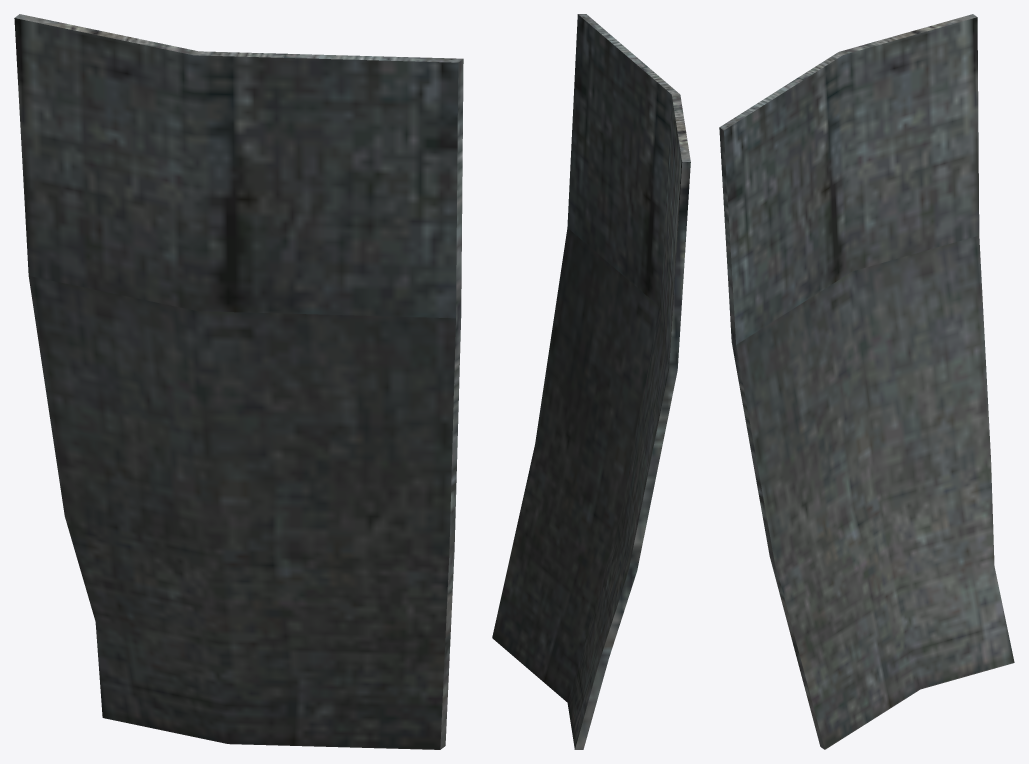
The model's file is flower_barrel_dead_p2.glb.
3 renders of one model, left to right at view 1: azimuth 30°, elevation 25°; view 2: azimuth 150°, elevation 25°; view 3: azimuth 270°, elevation 25°, orthographic. The views are drawn at different scales.
Parts seen in each view (by area): view 1: flower_barrel_dead_p2; view 2: flower_barrel_dead_p2; view 3: flower_barrel_dead_p2.
Boxes of the visible parts, <box> form: flower_barrel_dead_p2: <box>14,14,463,749</box>; flower_barrel_dead_p2: <box>492,14,690,749</box>; flower_barrel_dead_p2: <box>719,14,1014,749</box>.
Size of the model in its own units: 0.2097 by 0.439 by 0.1952.
1 material, 1 textured.
